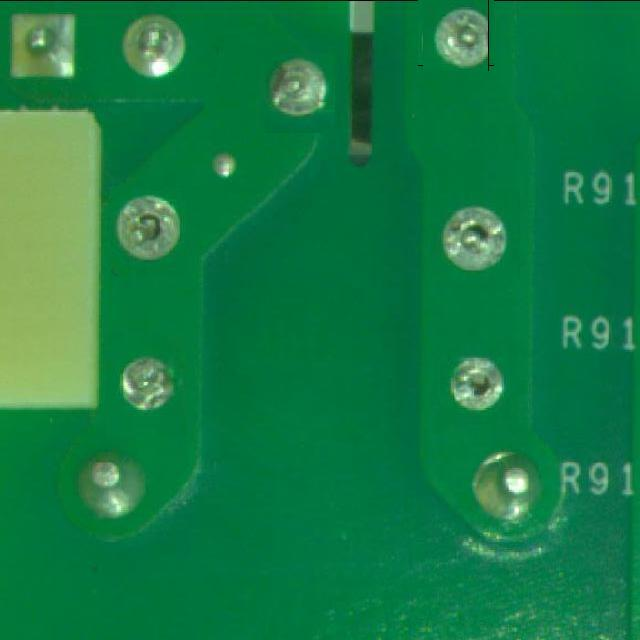lack_of_part: (106, 332, 186, 436), (429, 190, 519, 281), (110, 186, 187, 276), (436, 344, 514, 422), (262, 56, 338, 131), (420, 0, 491, 68)
